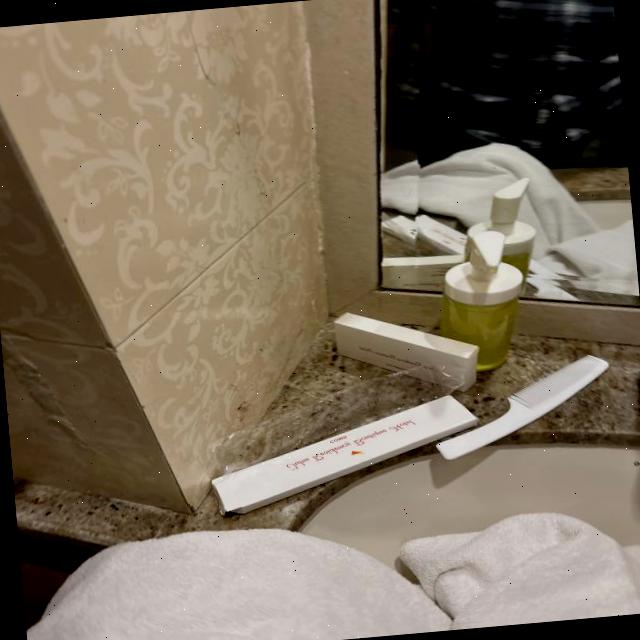disorganized_towel: (27, 515, 640, 640)
mess: (201, 310, 613, 519)
messy_sink: (267, 340, 640, 640)
